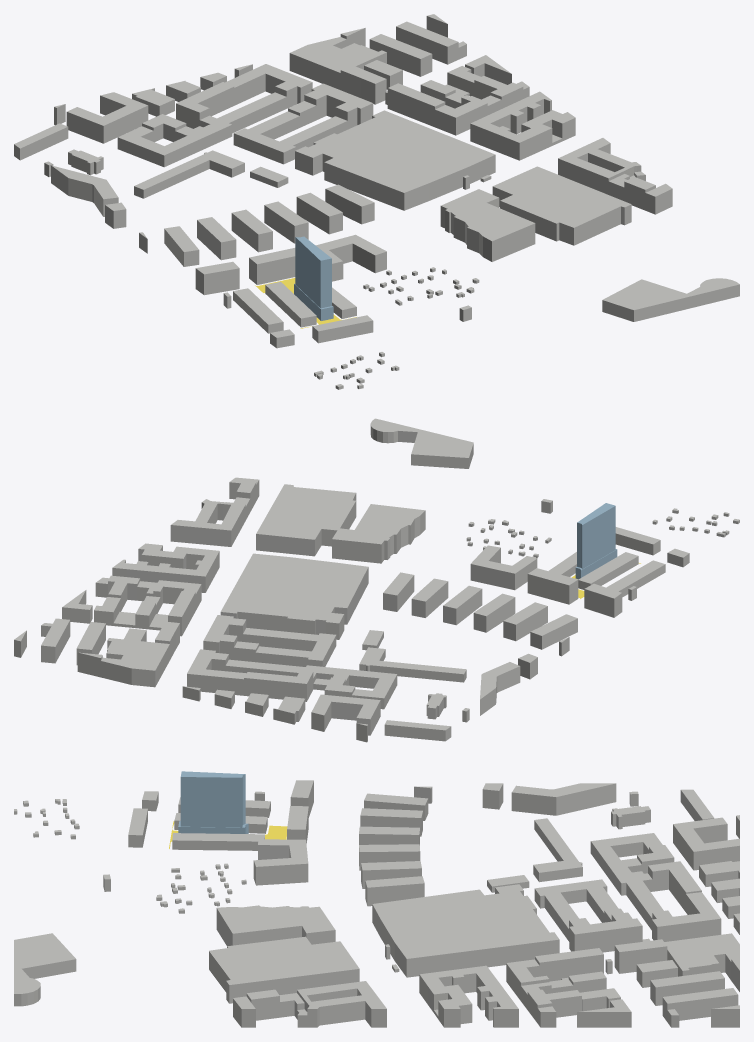
The picture shows the model from 3 angles, top to bottom: view 1: azimuth 30°, elevation 25°; view 2: azimuth 150°, elevation 25°; view 3: azimuth 270°, elevation 25°; orthographic projection. The views are drawn at different scales.
Visible parts, largest first — view 1: context_0000, context_0001, context_0002, context_0003, context_0004, context_0006, V3_01_tower, context_0005, context_0007, context_0011, context_0012, context_0014 (+37 smaller); view 2: context_0000, context_0001, context_0002, context_0003, context_0004, V3_01_tower, context_0006, context_0007, context_0005, context_0012, context_0021, context_0011 (+29 smaller); view 3: context_0000, context_0001, context_0002, V3_01_tower, context_0003, context_0011, context_0006, context_0004, context_0007, context_0005, context_0015, context_0013 (+49 smaller).
Boxes of the visible parts, x1,y1,x2,y2 form: context_0000: [295, 110, 495, 210]; context_0001: [492, 166, 631, 245]; context_0002: [440, 189, 535, 261]; context_0003: [602, 278, 739, 321]; context_0004: [289, 37, 386, 89]; context_0006: [66, 92, 148, 143]; V3_01_tower: [295, 236, 331, 308]; context_0005: [134, 150, 244, 198]; context_0007: [316, 234, 386, 281]; context_0011: [51, 165, 118, 216]; context_0012: [176, 82, 234, 128]; context_0014: [369, 34, 432, 76]; context_0000: [220, 553, 368, 639]; context_0001: [256, 484, 356, 556]; context_0002: [332, 504, 425, 563]; context_0003: [370, 418, 473, 468]; context_0004: [101, 638, 169, 687]; V3_01_tower: [577, 503, 615, 569]; context_0006: [311, 694, 380, 735]; context_0007: [470, 545, 537, 590]; context_0005: [359, 647, 466, 682]; context_0012: [244, 670, 313, 701]; context_0021: [527, 568, 578, 604]; context_0011: [480, 662, 520, 715]; context_0000: [372, 884, 559, 977]; context_0001: [209, 936, 359, 1003]; context_0002: [216, 905, 335, 946]; V3_01_tower: [180, 771, 245, 827]; context_0003: [14, 933, 76, 1006]; context_0011: [511, 783, 616, 815]; context_0006: [673, 817, 739, 870]; context_0004: [664, 933, 739, 980]; context_0007: [253, 839, 308, 885]; context_0005: [533, 818, 582, 882]; context_0015: [662, 988, 738, 1021]; context_0013: [427, 983, 472, 1027].
Bounding box in the file's own units: 467 × 60 × 635.
